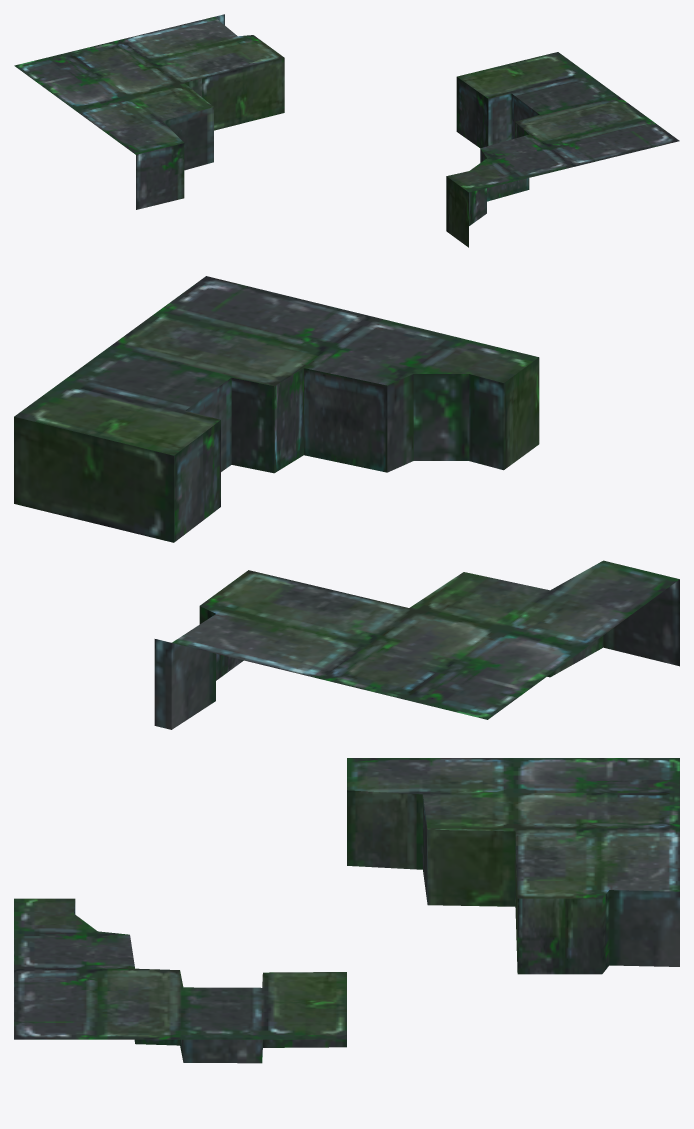
Rendered from stemple_floor_diagonal_03a.fbx.
The picture shows the model from 3 angles, top to bottom: view 1: azimuth 30°, elevation 25°; view 2: azimuth 150°, elevation 25°; view 3: azimuth 270°, elevation 25°; orthographic projection. The views are drawn at different scales.
Visible parts, largest first — view 1: stemple_floor_diagonal_03a-0; view 2: stemple_floor_diagonal_03a-0; view 3: stemple_floor_diagonal_03a-0.
Boxes of the visible parts, x1,y1,x2,y2 form: stemple_floor_diagonal_03a-0: [14, 14, 679, 247]; stemple_floor_diagonal_03a-0: [14, 276, 679, 729]; stemple_floor_diagonal_03a-0: [14, 758, 679, 1063].
Bounding box in the file's own units: 4 × 0.5 × 4.
